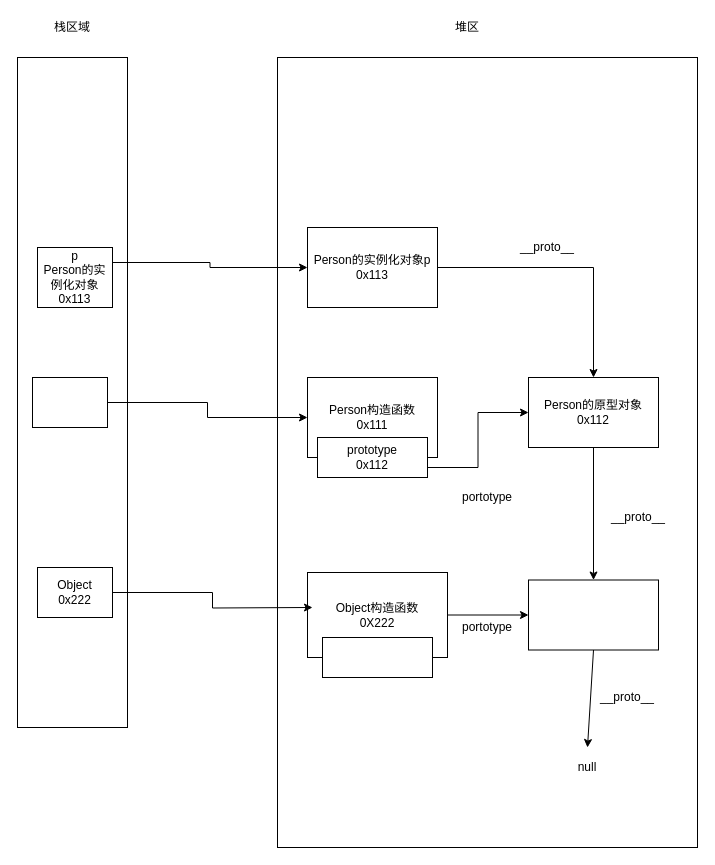
Some shapes in this 715 by 865 pixel diagram are drawn without their labels. Each missing label, with the centre of its shape:
"Object的原型对象 0x223" belongs at point 593,614.
"Person 0x111" belongs at point 70,402.
"prototype 0x223" belongs at point 377,657.
